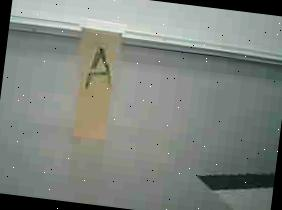Bottle A: (63, 11, 128, 152)
